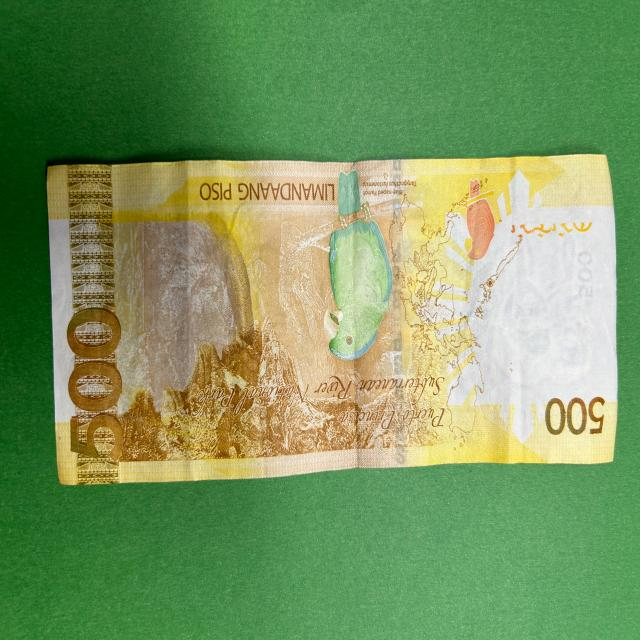security_thread: (390, 158, 404, 468)
see_through_mark: (505, 212, 597, 244)
value: (56, 302, 127, 468)
value_watermark: (572, 246, 599, 310)
watermark: (492, 236, 583, 403)
